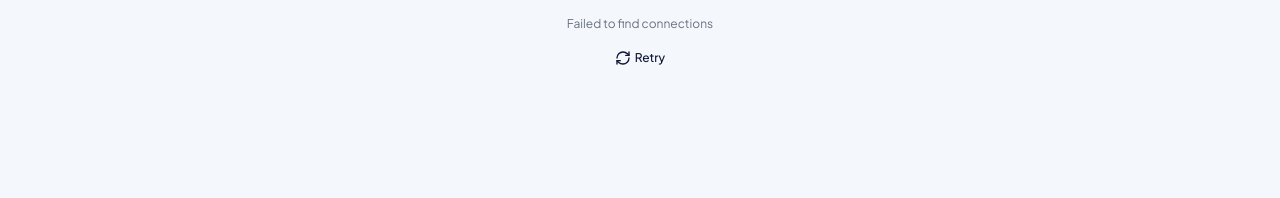
ConnectionsPanel daily cache › does not cache a failed call, so Retry still refetches
expect the text "Failed to find connections" is shown: met, box [567,16,713,31]
Click the button "Retry" at (640, 58), box [603,40,677,76]
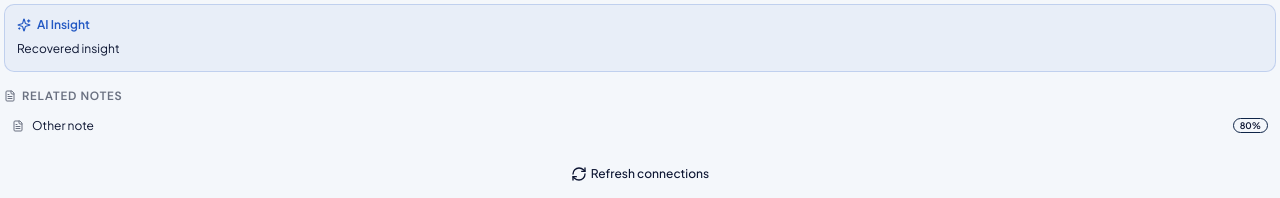
expect the text "Recovered insight" is shown: met, box [17,41,120,56]
